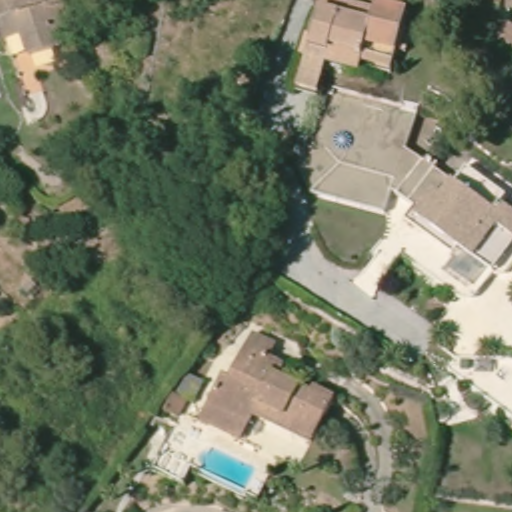pool: (193, 442, 263, 491)
